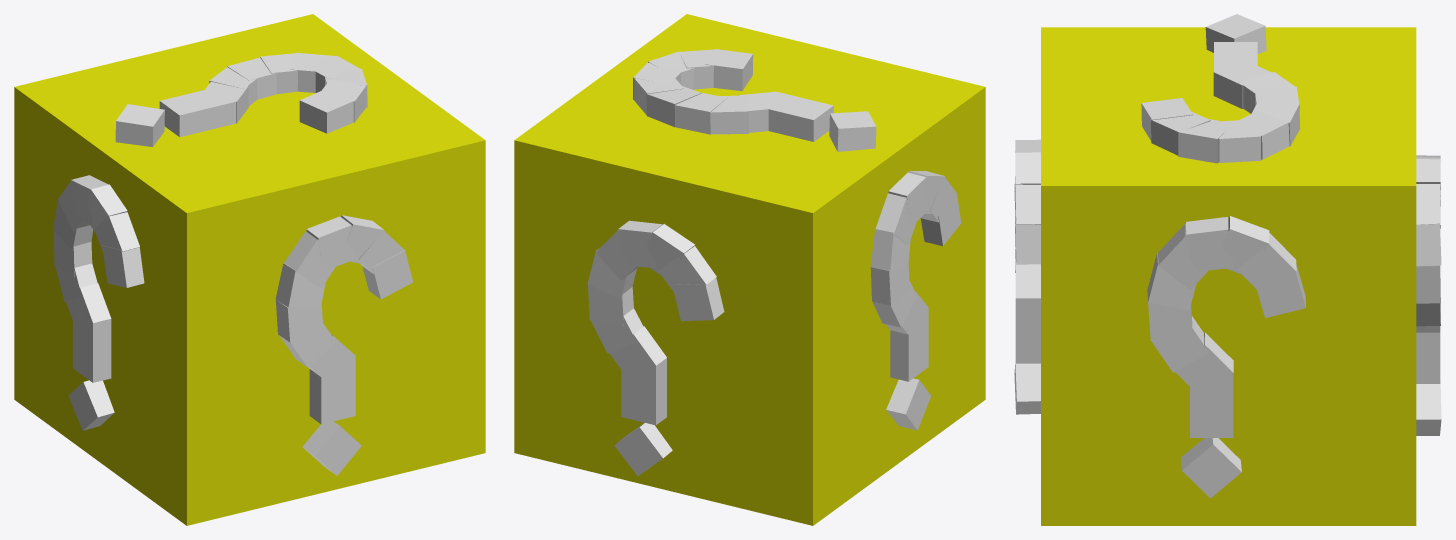
File: _ystery_cub.fbx
3 views of the same model, side by side, from view 1: azimuth 30°, elevation 25°; view 2: azimuth 150°, elevation 25°; view 3: azimuth 270°, elevation 25° (orthographic). The views are drawn at different scales.
Visible parts, largest first — view 1: pCube70; view 2: pCube70; view 3: pCube70.
Boxes of the visible parts, left/top/right/bottom form: pCube70: left=14, top=14, right=485, bottom=525; pCube70: left=514, top=14, right=985, bottom=525; pCube70: left=1014, top=14, right=1441, bottom=525.
Bounding box in the file's own units: 1.42 × 1.41 × 1.41.
